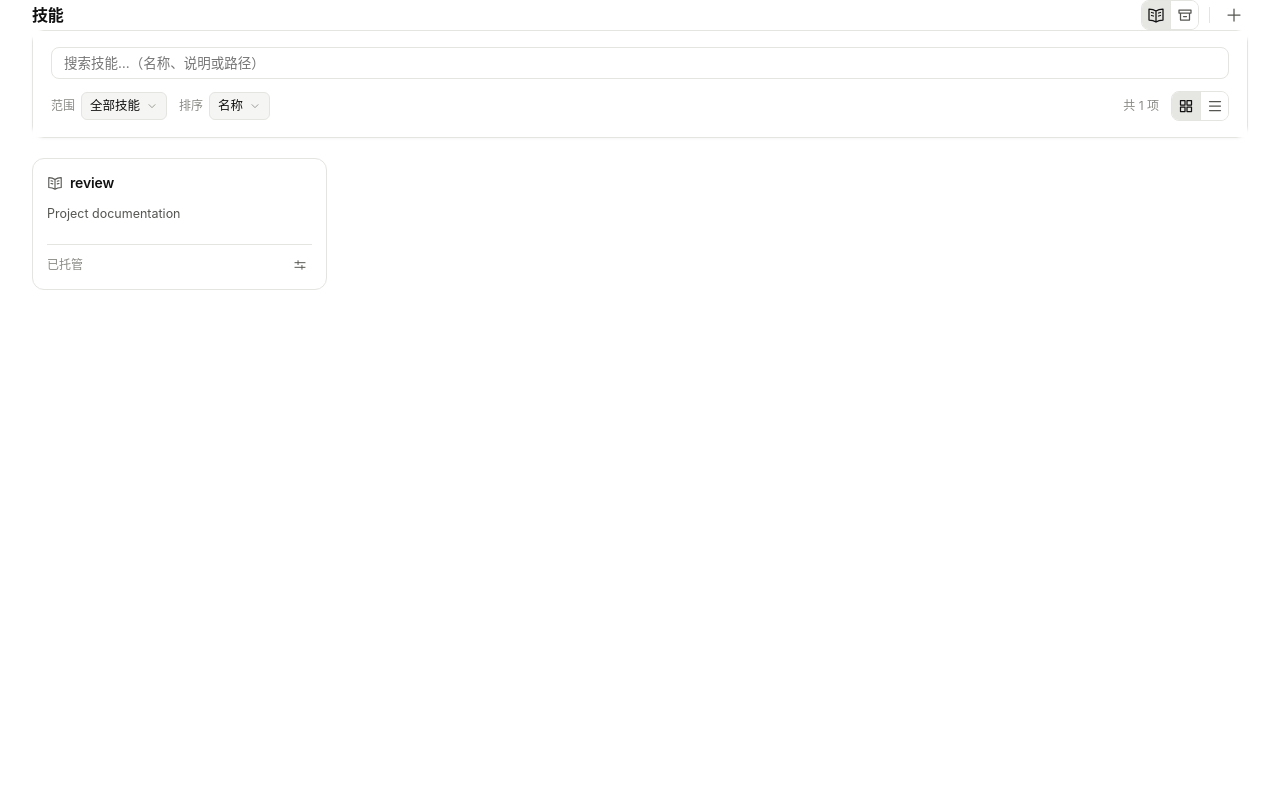
Test case: retains a linked Skill on failed removal and returns to the board after success without deleting its source
Click the button "review Project documentation 已托管". click: point(180, 224)
box: [32,158,327,290]
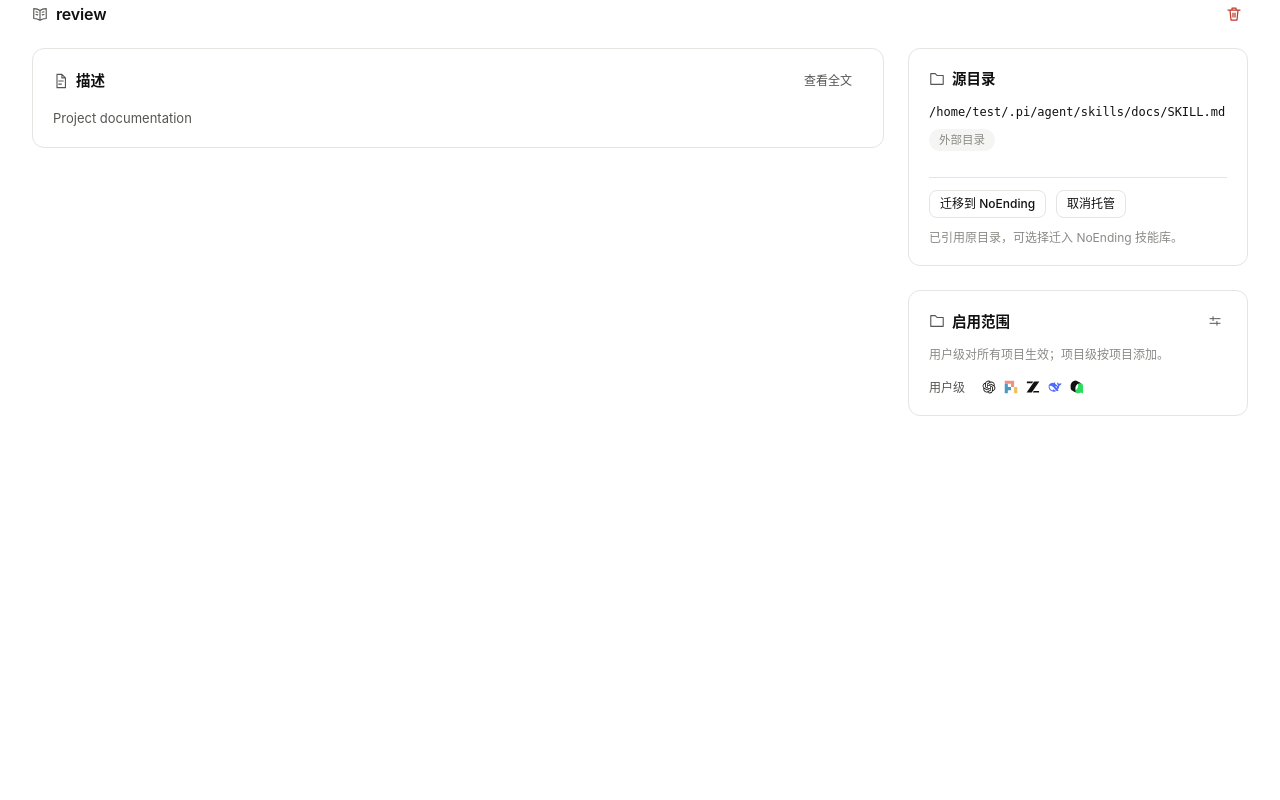
Click the button named "卸载 Skill". click: point(1234, 14)
box: [1220,0,1248,28]
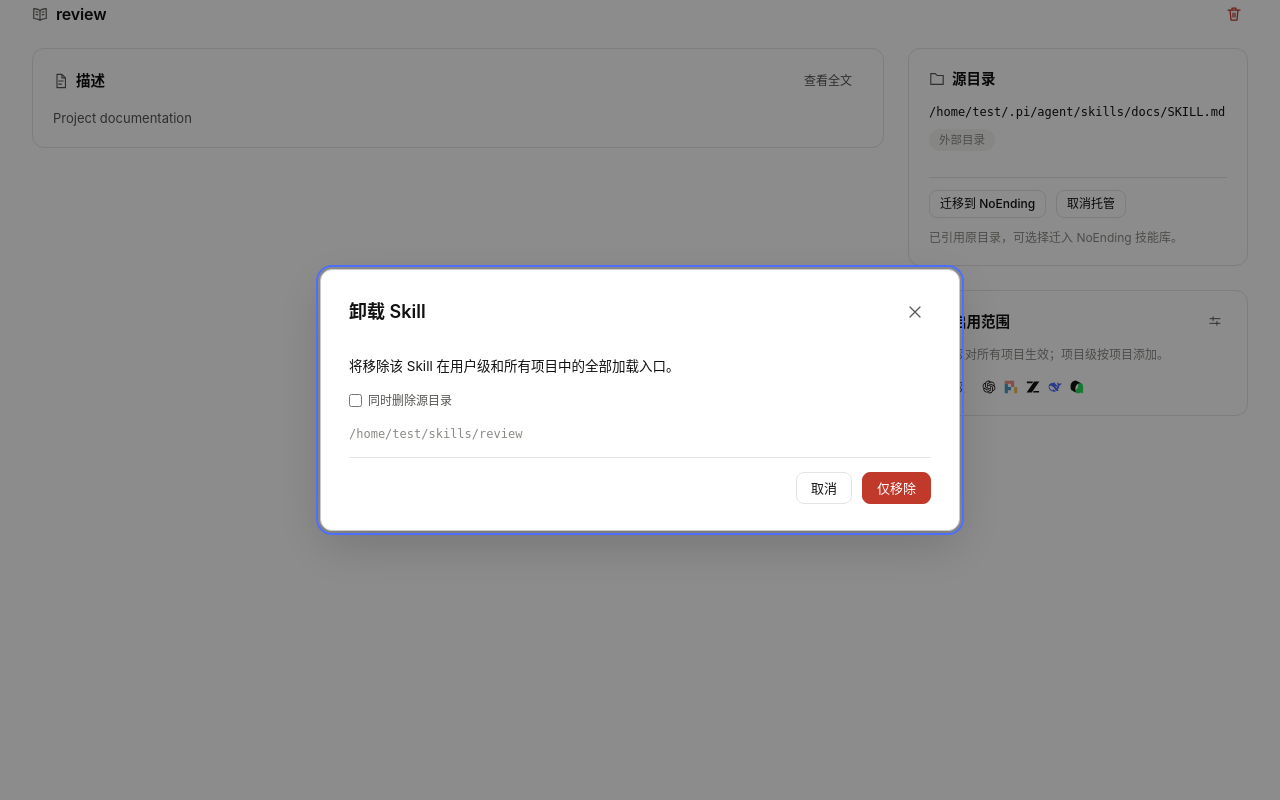
Now the button "仅移除" is enabled
Now the checkbox is not checked, box [349,394,362,407]
Now the checkbox is enabled, box [349,394,362,407]
Click the button "仅移除". click: point(896, 488)
box: [862,472,931,504]
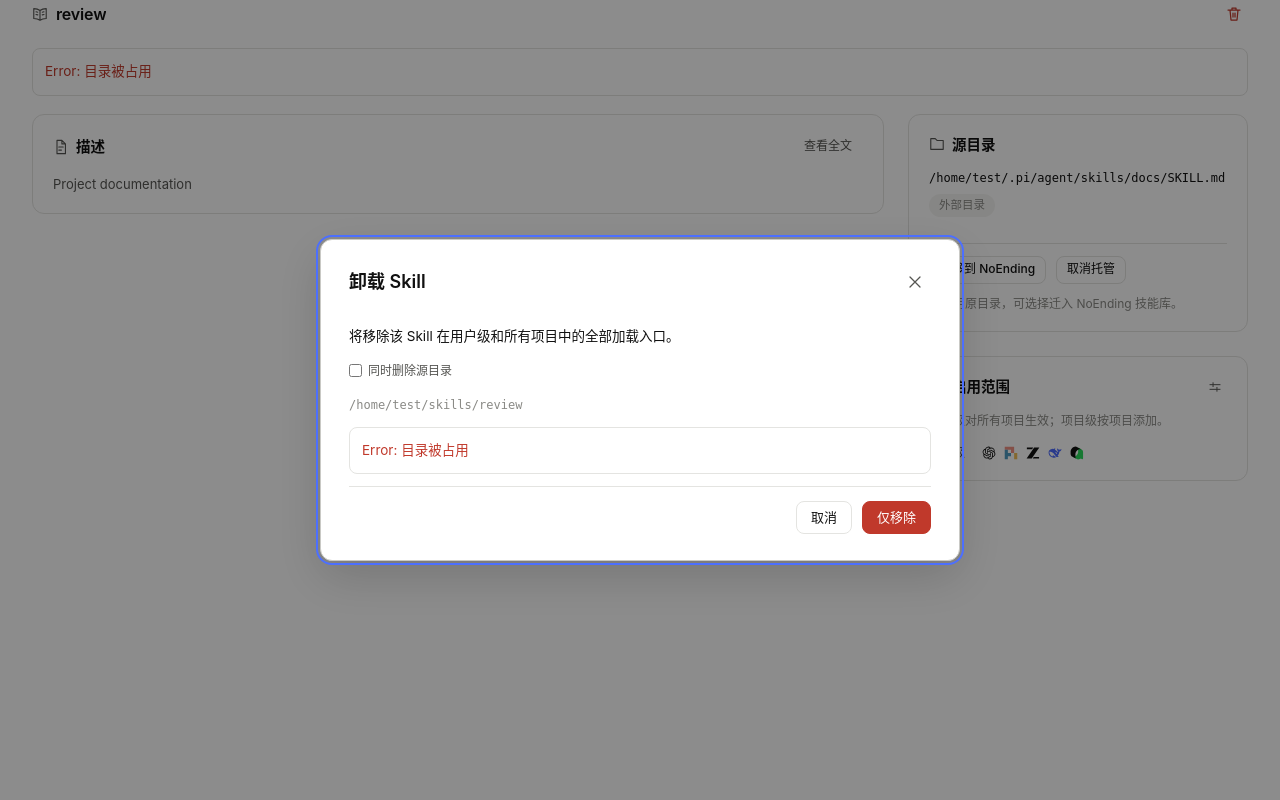
Now the element named "技能详情" is shown, box [32,114,884,214]
Click the button "仅移除". click: point(896, 518)
box: [862,501,931,534]
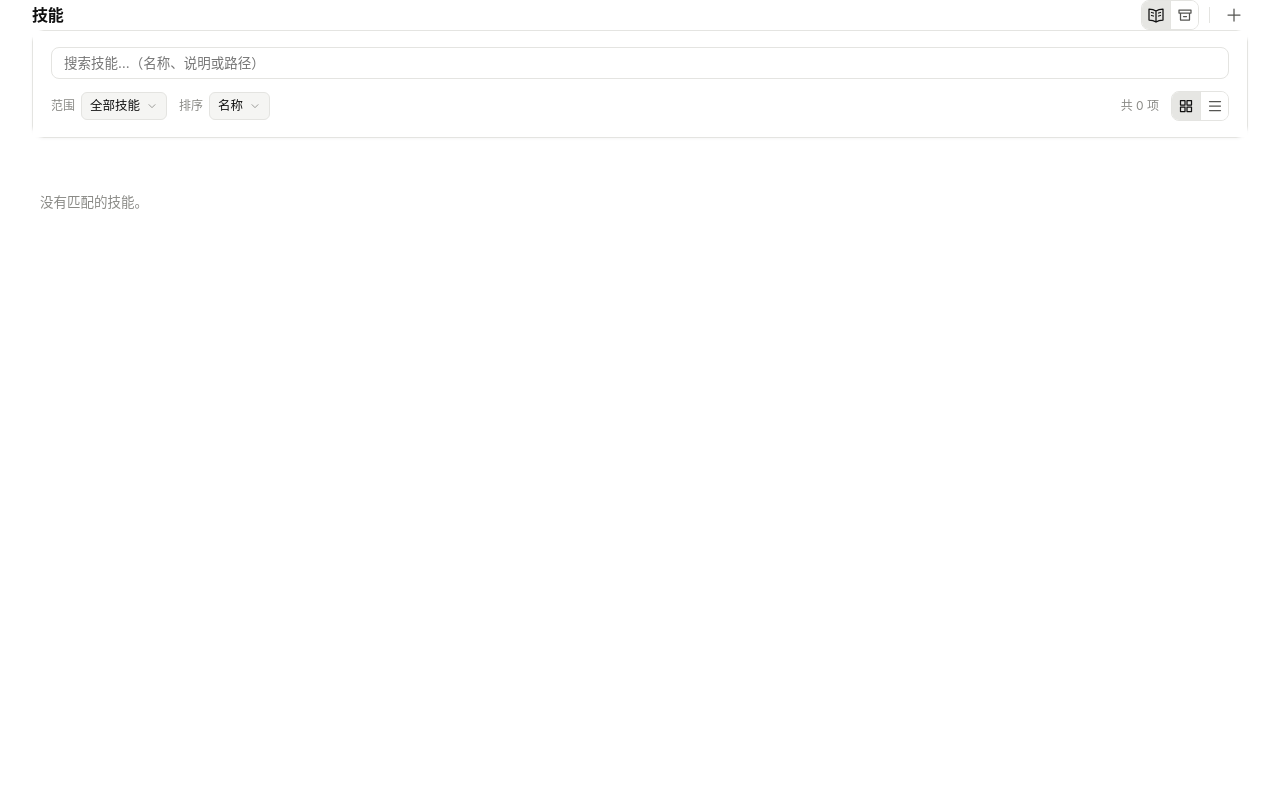
Now the field labelled "技能详情" is gone
